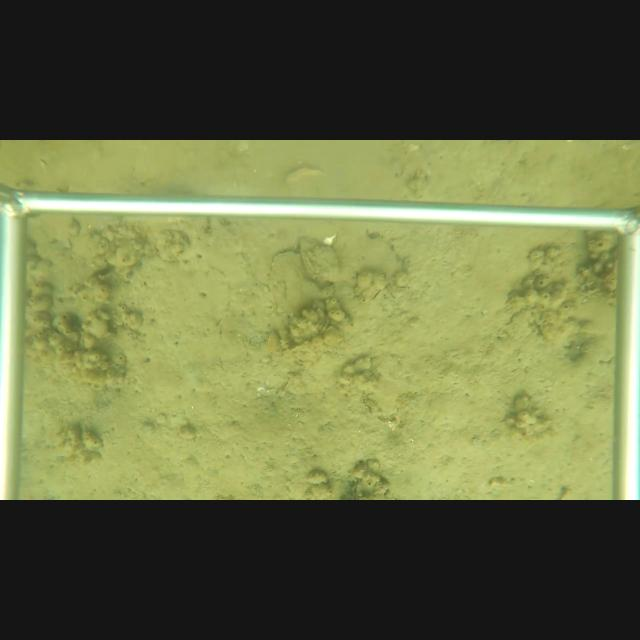Oyster-Closed: (297, 234, 341, 284), (262, 328, 280, 352)
